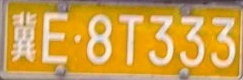E: (42, 13, 68, 64)
